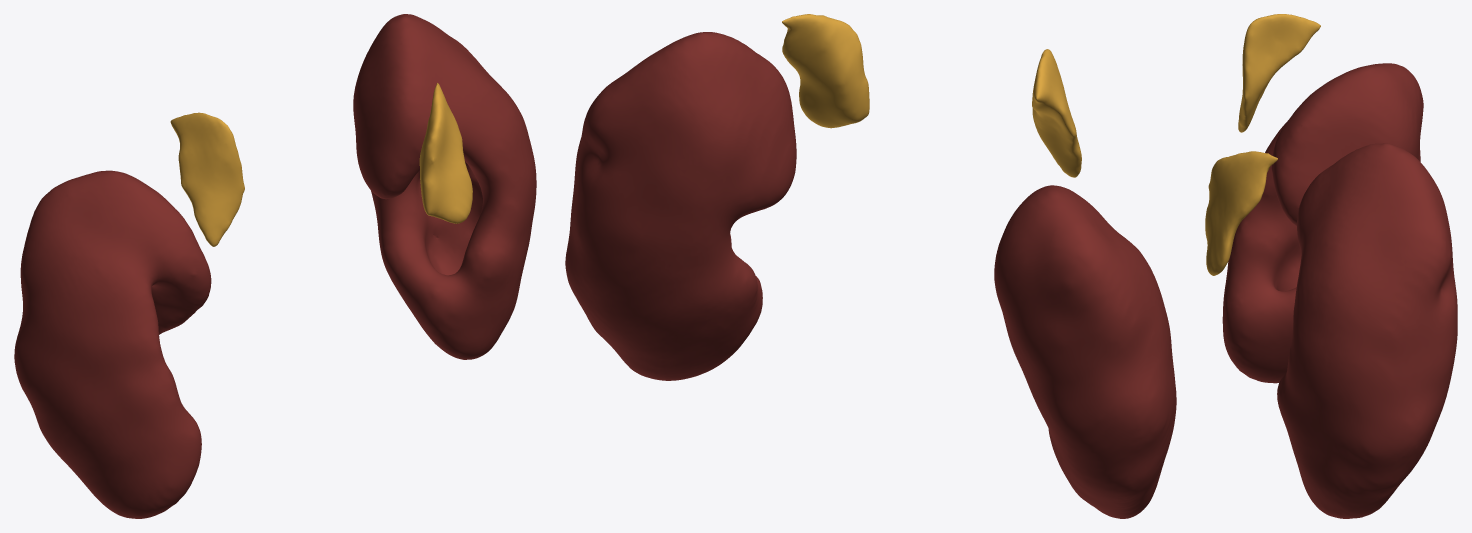
The model's file is s1045_kidneys.glb.
The picture shows the model from 3 angles, left to right: view 1: azimuth 30°, elevation 25°; view 2: azimuth 150°, elevation 25°; view 3: azimuth 270°, elevation 25°; orthographic projection. The views are drawn at different scales.
Visible parts, largest first — view 1: kidney_right, kidney_left, adrenal_gland_right, adrenal_gland_left; view 2: kidney_left, kidney_right, adrenal_gland_left, adrenal_gland_right; view 3: kidney_left, kidney_right, adrenal_gland_left, adrenal_gland_right.
Boxes of the visible parts, box(x1,y1,x2,y2) form: kidney_right: box(14, 170, 211, 518); kidney_left: box(353, 14, 536, 359); adrenal_gland_right: box(170, 112, 244, 246); adrenal_gland_left: box(419, 83, 472, 223); kidney_left: box(565, 32, 796, 380); kidney_right: box(994, 185, 1176, 518); adrenal_gland_left: box(782, 14, 869, 128); adrenal_gland_right: box(1032, 49, 1081, 177); kidney_left: box(1277, 143, 1457, 518); kidney_right: box(1222, 63, 1423, 383); adrenal_gland_left: box(1205, 151, 1277, 275); adrenal_gland_right: box(1238, 14, 1320, 132).
Size of the model in its own units: 0.1914 by 0.1382 by 0.0786.
